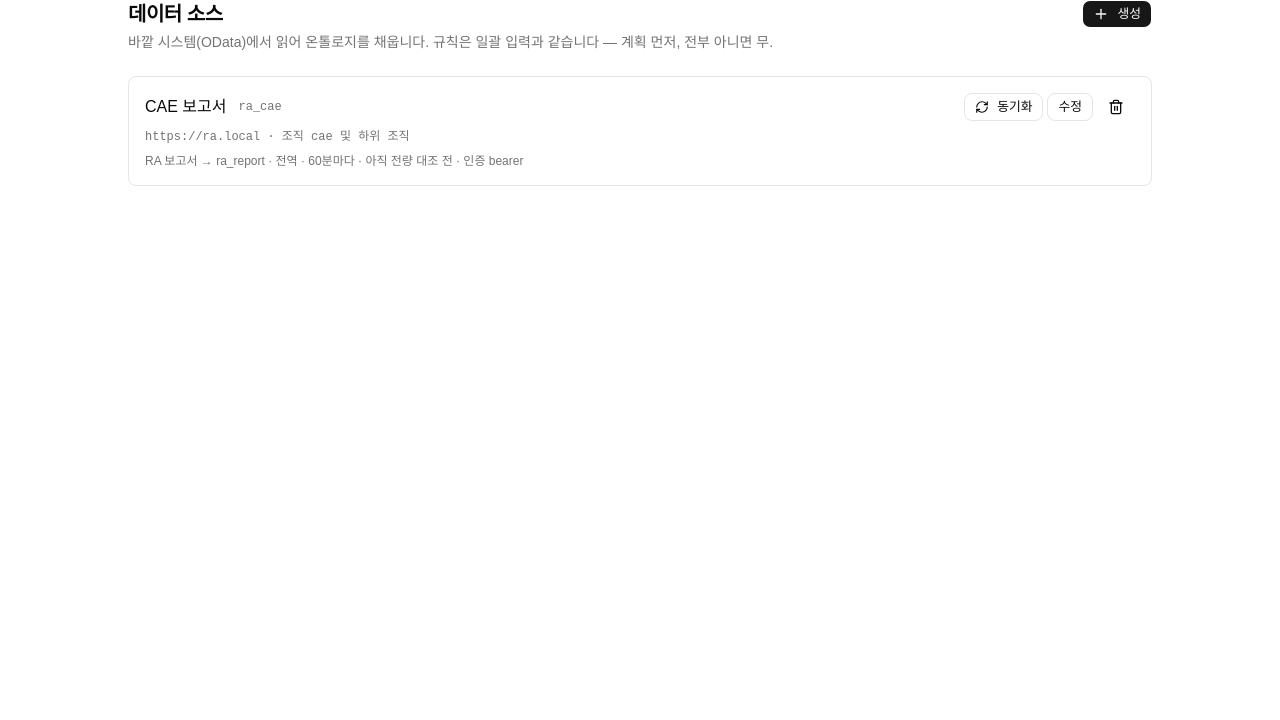
Test: RA 보고서 소스 › 깨진 보고서가 섞여도 서버가 넣을 수 있다고 하면 적용할 수 있다
Click the button "동기화" at point(1004, 107), box [964,93,1043,121]
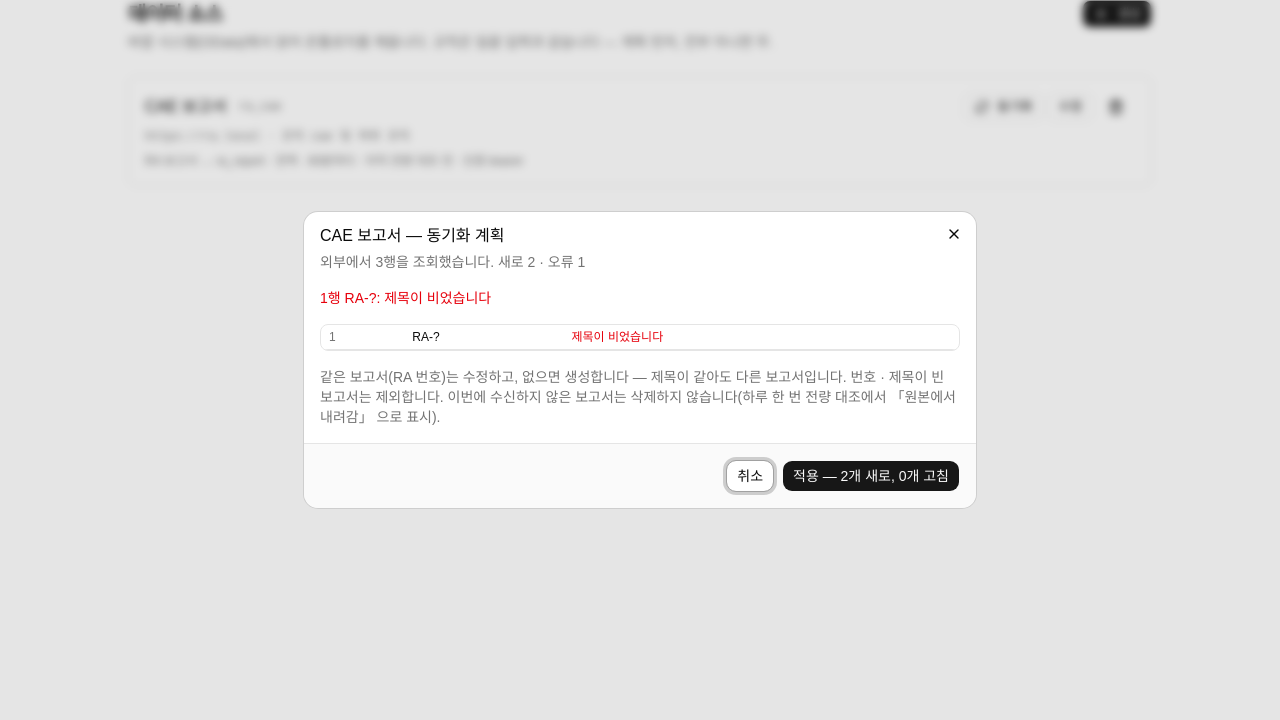
Check: the text "제목이 같아도 다른 보고서" is shown, box [320,369,956,425]
Check: the button "적용 — 2개 새로, 0개 고침" is enabled, box [782,460,960,492]
